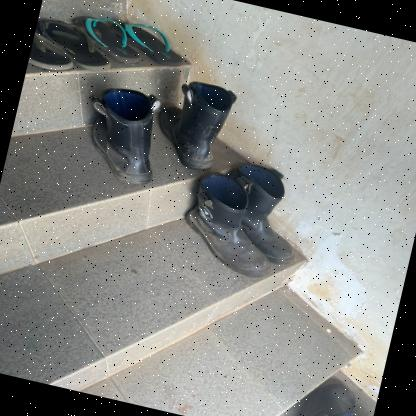bota: (162, 144, 334, 300), (66, 80, 172, 191), (155, 74, 240, 174), (288, 374, 379, 416)
